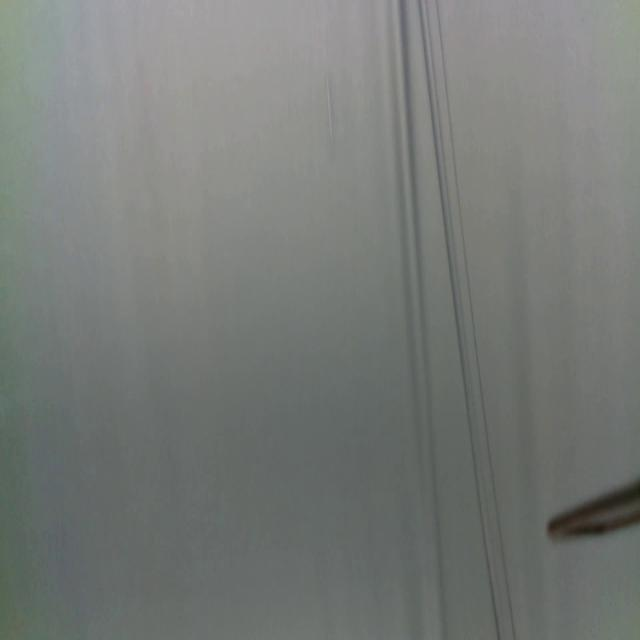crease: (422, 1, 518, 640), (326, 71, 334, 140)
